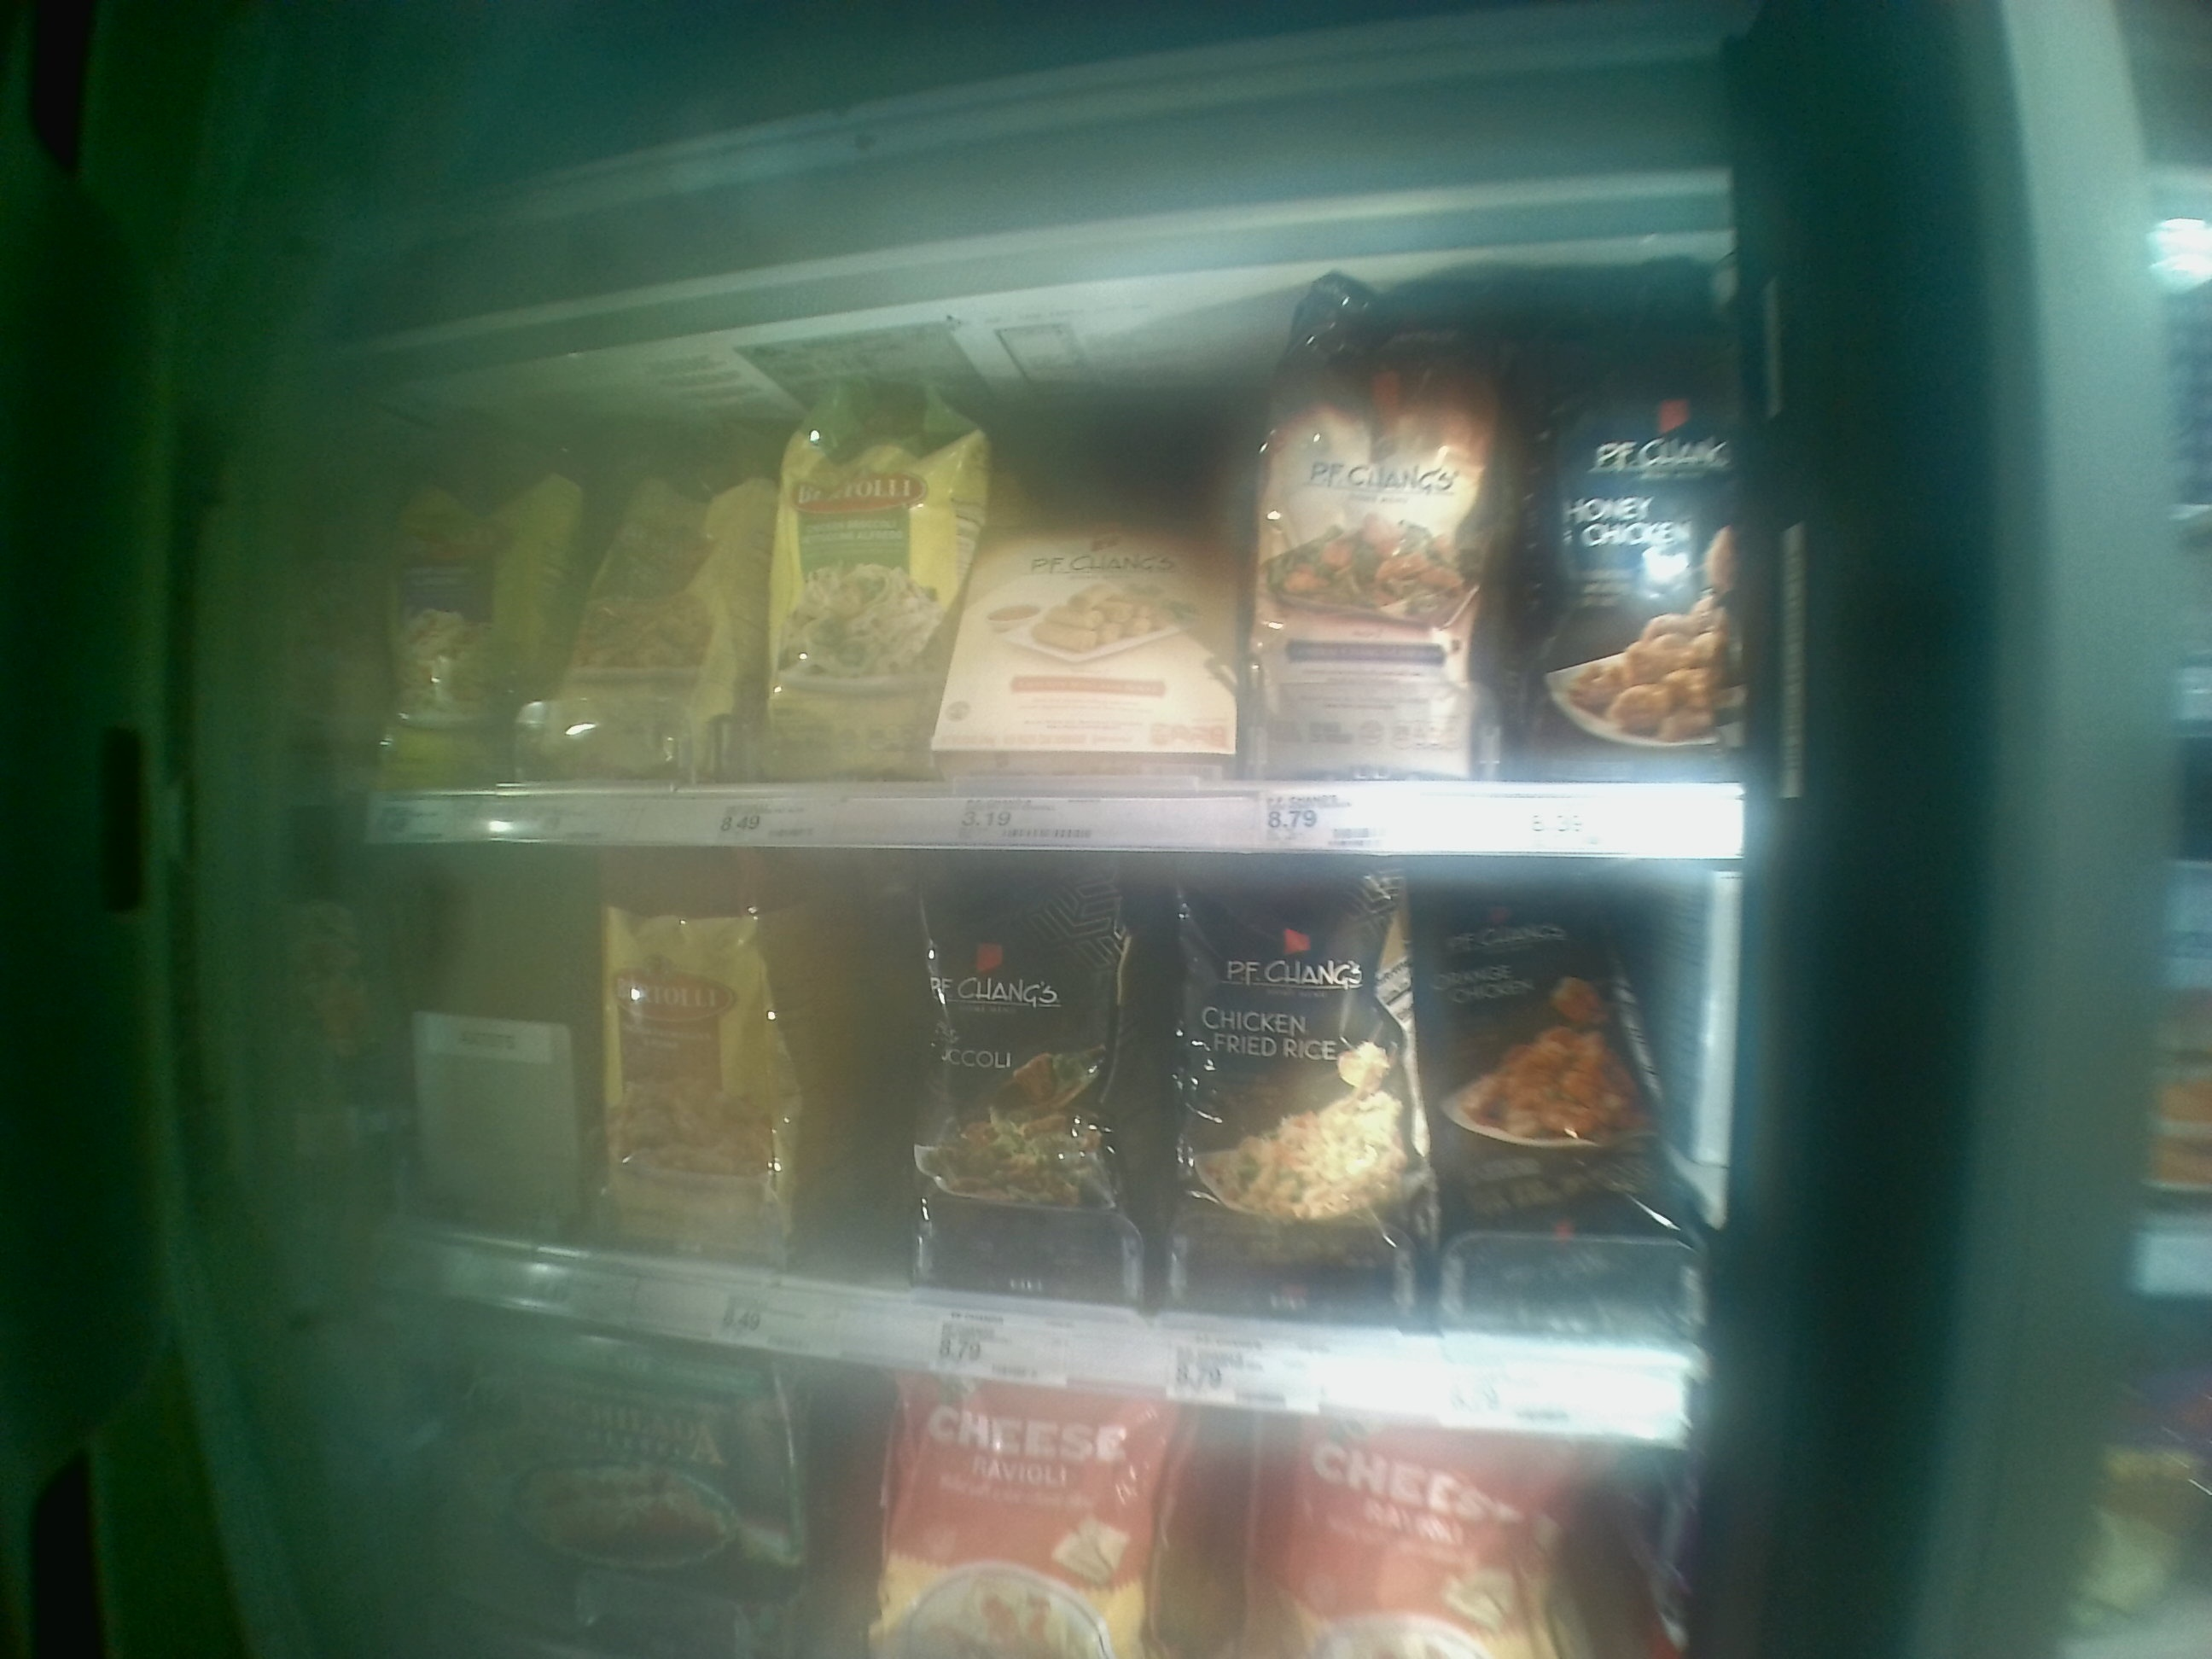shelf: (373, 847, 1719, 1445), (364, 254, 1728, 843)
